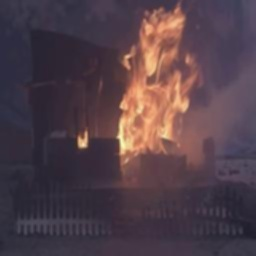fire: (103, 4, 200, 164)
